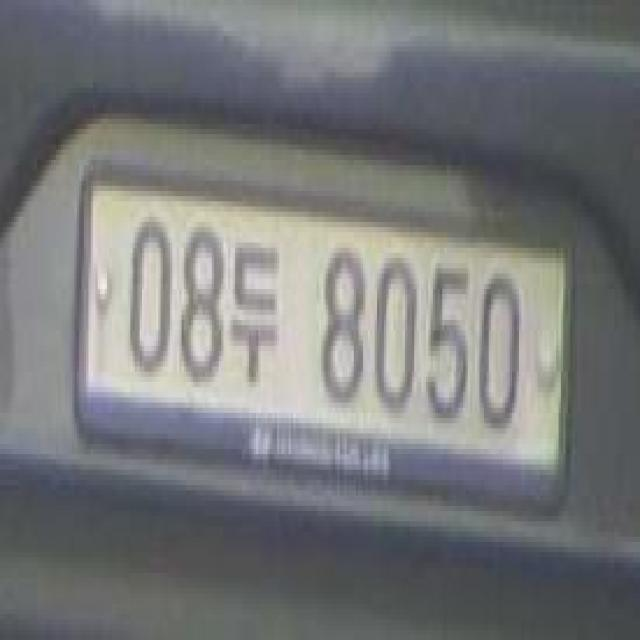illegal_plate: (79, 168, 571, 514)
